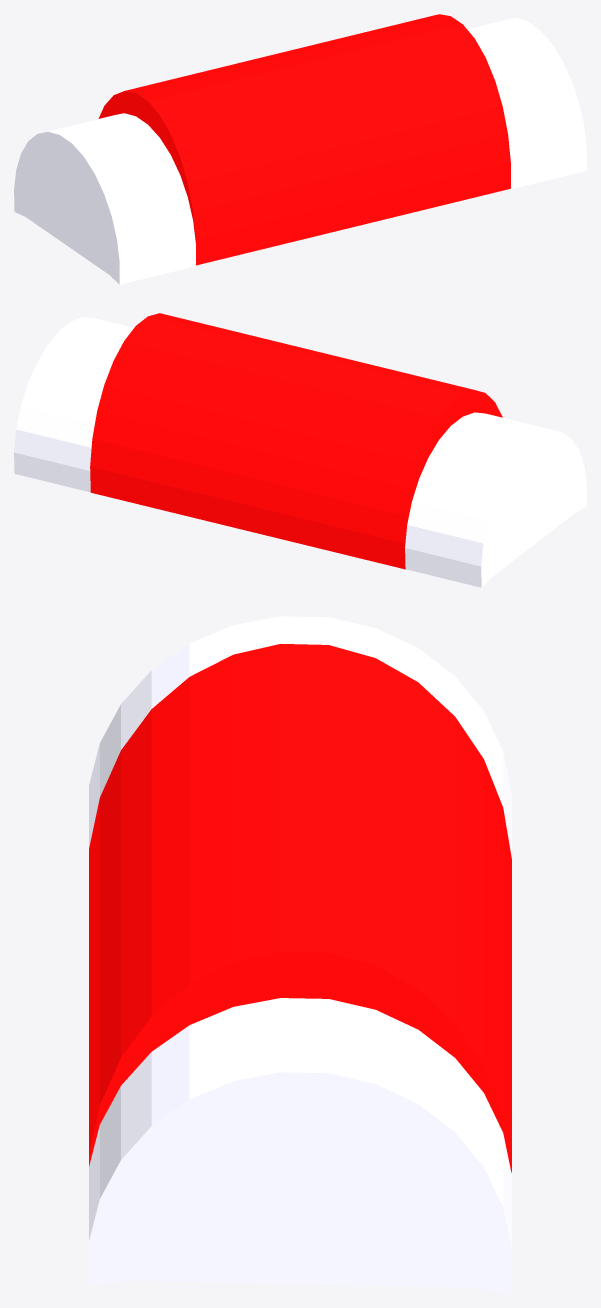
Rendered from Note.fbx.
The picture shows the model from 3 angles, top to bottom: view 1: azimuth 30°, elevation 25°; view 2: azimuth 150°, elevation 25°; view 3: azimuth 270°, elevation 25°; orthographic projection. The views are drawn at different scales.
Parts seen in each view (by area): view 1: Cube.001, Cube.003, Cube; view 2: Cube.001, Cube.003, Cube; view 3: Cube.001, Cube, Cube.003.
Boxes of the visible parts, left/top/right/bottom form: Cube.001: left=98, top=14, right=510, bottom=265; Cube.003: left=14, top=113, right=195, bottom=284; Cube: left=467, top=17, right=586, bottom=189; Cube.001: left=90, top=313, right=502, bottom=569; Cube.003: left=405, top=412, right=586, bottom=587; Cube: left=14, top=317, right=133, bottom=492; Cube.001: left=89, top=644, right=511, bottom=1172; Cube: left=89, top=998, right=511, bottom=1293; Cube.003: left=89, top=616, right=511, bottom=858.
Bounding box in the file's own units: 628 × 173 × 246.
